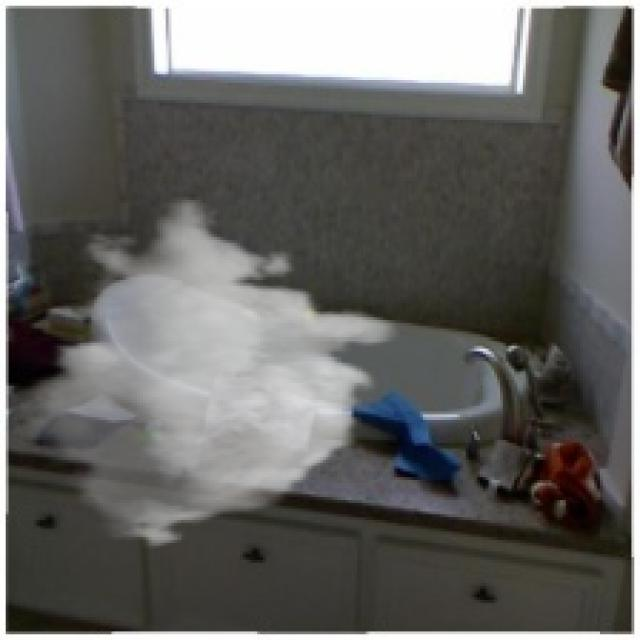smoke: (9, 197, 400, 552)
